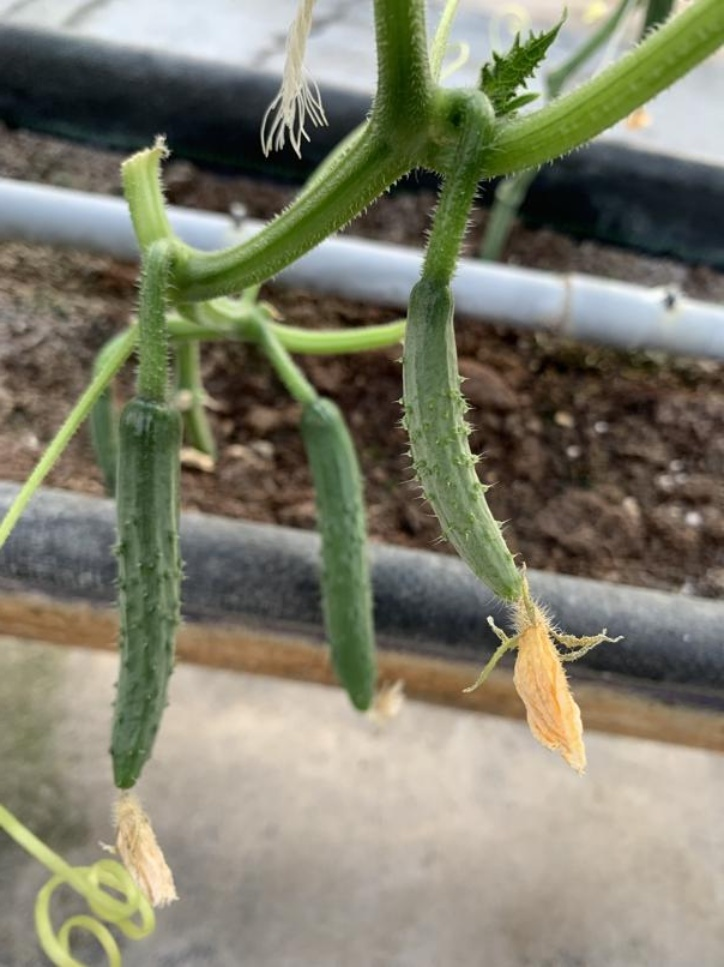bear: (394, 270, 594, 768)
growth: (290, 396, 401, 727), (106, 391, 190, 806)
